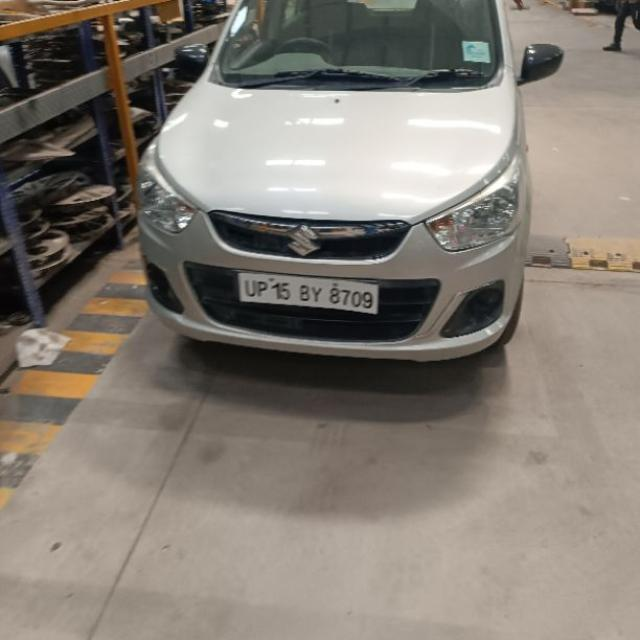license_plate: (235, 270, 380, 315)
